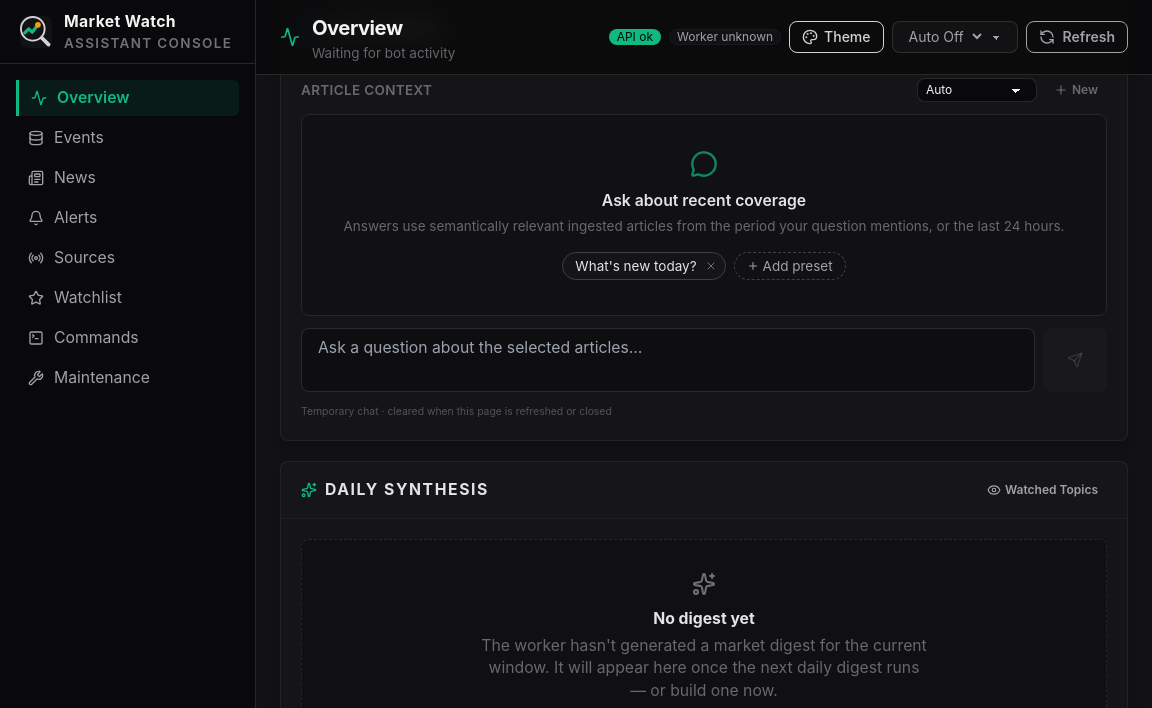
App data states › shows a readable discussion validation error
The width and height of the screenshot is (1152, 708).
(page scrolled)
Type "Continue the discussion." into the text box named "Discussion message" at (668, 360), box [301, 328, 1035, 392]
(page scrolled)
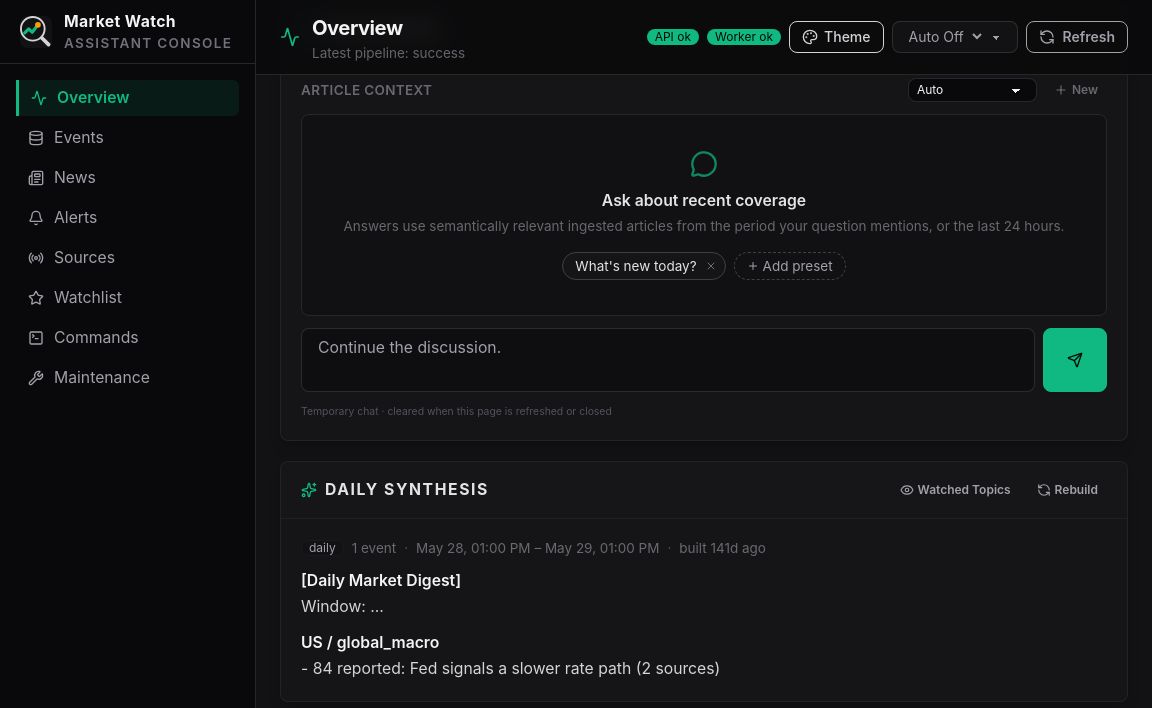
Click the button named "Send discussion message" at (1075, 360), box [1043, 328, 1107, 392]
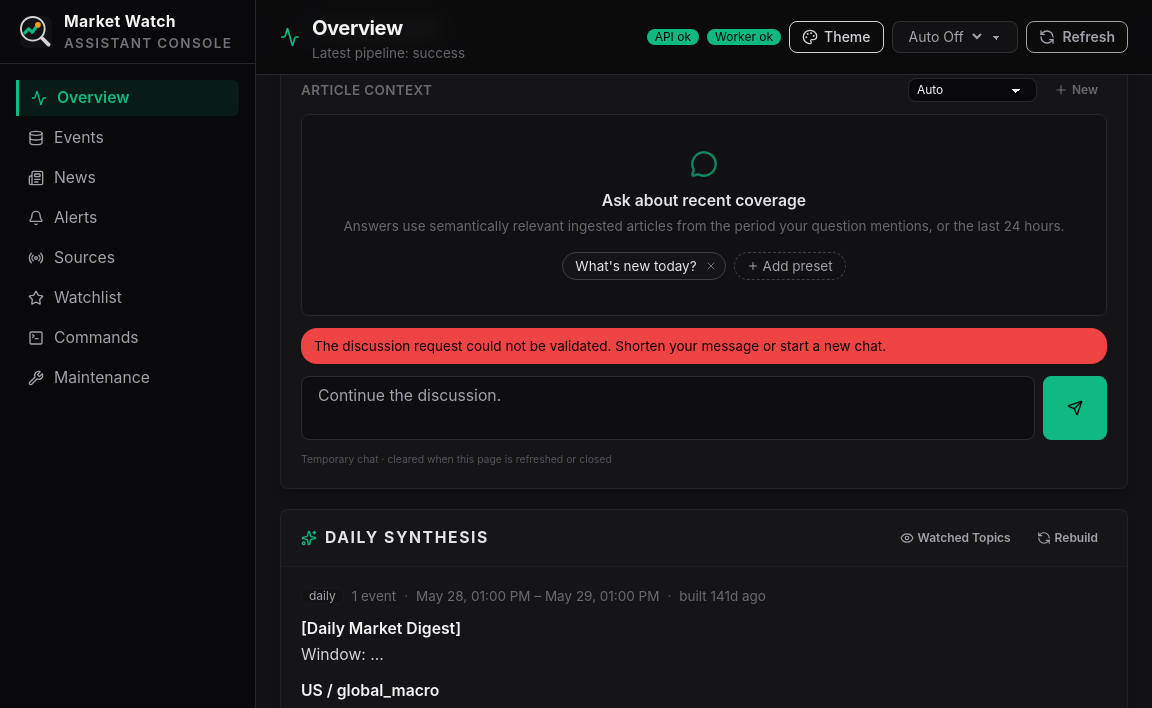
Expected: the text "The discussion request could not be validated. Shorten your message or start a new chat." is shown, [314, 338, 886, 354]
